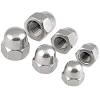Thread: (26, 17, 44, 37), (52, 33, 69, 52), (76, 49, 93, 66)
